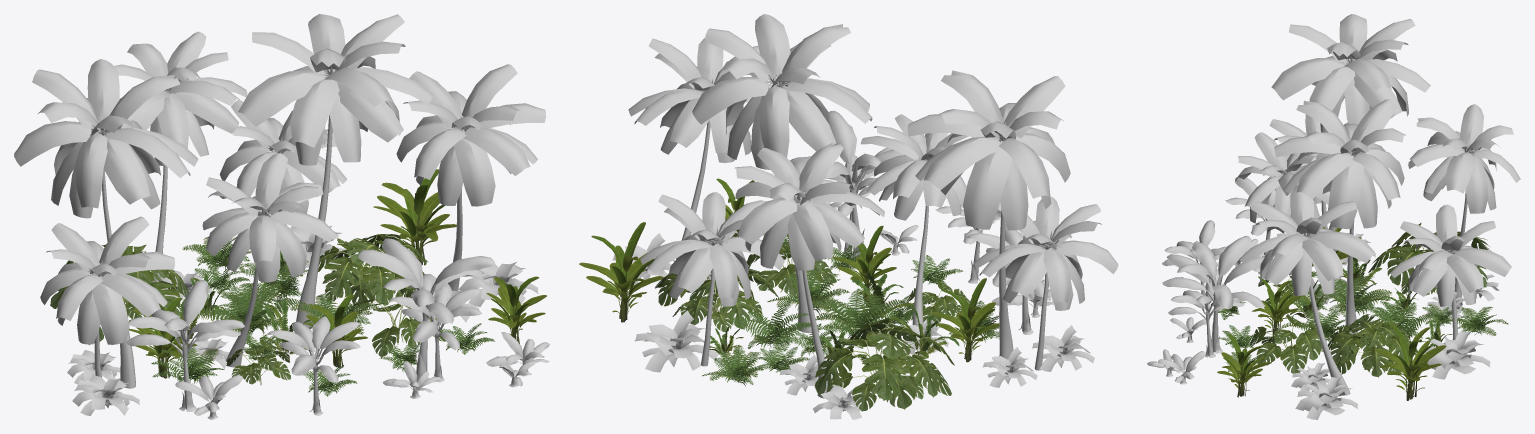
File: Tropical_1.fbx
3 views of the same model, side by side, from view 1: azimuth 30°, elevation 25°; view 2: azimuth 150°, elevation 25°; view 3: azimuth 270°, elevation 25° (orthographic). The views are drawn at different scales.
Visible parts, largest first — view 1: trunk01_Material #1_0.005, trunk01_Material #1_0.006, trunk01_Material #1_0.001, trunk01_Material #1_0, trunk01_Material #1_0.004, fern1_fern1_0, trunk01_Material #1_0.003, trunk01_Material #1_0.002, trunk03_Material #2_0, leaves02_Material #0_0, trunk03_Material #2_0.001, trunk03_Material #2_0.003 (+17 smaller); view 2: trunk01_Material #1_0.006, trunk01_Material #1_0.005, trunk01_Material #1_0.003, fern1_fern1_0, trunk01_Material #1_0, trunk01_Material #1_0.002, leaves02_Material #0_0.001, trunk01_Material #1_0.001, trunk01_Material #1_0.004, leaves02_Material #0_0, palm_plant03_palm_plant_0, trunk03_Material #2_0 (+17 smaller); view 3: trunk01_Material #1_0.005, trunk01_Material #1_0.006, trunk01_Material #1_0.001, trunk01_Material #1_0.003, trunk01_Material #1_0.002, fern1_fern1_0, trunk03_Material #2_0, leaves02_Material #0_0, trunk01_Material #1_0.004, leaves02_Material #0_0.003, palm_plant03_palm_plant_0, trunk01_palm_0 (+14 smaller).
Part boxes in pixels (left/top/right/bottom): trunk01_Material #1_0.005: left=238, top=14, right=433, bottom=329; trunk01_Material #1_0.006: left=14, top=59, right=197, bottom=388; trunk01_Material #1_0.001: left=396, top=64, right=545, bottom=290; trunk01_Material #1_0: left=40, top=216, right=174, bottom=377; trunk01_Material #1_0.004: left=202, top=153, right=335, bottom=367; fern1_fern1_0: left=151, top=236, right=494, bottom=396; trunk01_Material #1_0.003: left=114, top=31, right=247, bottom=289; trunk01_Material #1_0.002: left=219, top=100, right=346, bottom=217; trunk03_Material #2_0: left=358, top=238, right=495, bottom=380; leaves02_Material #0_0: left=306, top=234, right=427, bottom=308; trunk03_Material #2_0.001: left=126, top=280, right=244, bottom=411; trunk03_Material #2_0.003: left=267, top=316, right=360, bottom=415; trunk01_Material #1_0.006: left=907, top=70, right=1070, bottom=359; trunk01_Material #1_0.005: left=692, top=14, right=872, bottom=333; trunk01_Material #1_0.003: left=735, top=143, right=884, bottom=398; fern1_fern1_0: left=702, top=234, right=999, bottom=386; trunk01_Material #1_0: left=974, top=196, right=1118, bottom=370; trunk01_Material #1_0.002: left=640, top=192, right=784, bottom=366; leaves02_Material #0_0.001: left=815, top=319, right=954, bottom=411; trunk01_Material #1_0.001: left=628, top=38, right=759, bottom=280; trunk01_Material #1_0.004: left=860, top=114, right=968, bottom=326; leaves02_Material #0_0: left=655, top=268, right=778, bottom=332; palm_plant03_palm_plant_0: left=579, top=222, right=663, bottom=322; trunk03_Material #2_0: left=790, top=110, right=904, bottom=260; trunk01_Material #1_0.005: left=1274, top=99, right=1405, bottom=334; trunk01_Material #1_0.006: left=1271, top=14, right=1430, bottom=231; trunk01_Material #1_0.001: left=1239, top=184, right=1374, bottom=395; trunk01_Material #1_0.003: left=1408, top=104, right=1520, bottom=307; trunk01_Material #1_0.002: left=1389, top=204, right=1511, bottom=339; fern1_fern1_0: left=1213, top=262, right=1508, bottom=372; trunk03_Material #2_0: left=1162, top=235, right=1272, bottom=353; leaves02_Material #0_0: left=1328, top=314, right=1417, bottom=377; trunk01_Material #1_0.004: left=1235, top=132, right=1329, bottom=301; leaves02_Material #0_0.003: left=1250, top=314, right=1327, bottom=373; palm_plant03_palm_plant_0: left=1374, top=322, right=1446, bottom=400; trunk01_palm_0: left=1425, top=331, right=1490, bottom=379.
Size of the model in its own units: 814 by 473 by 664.
